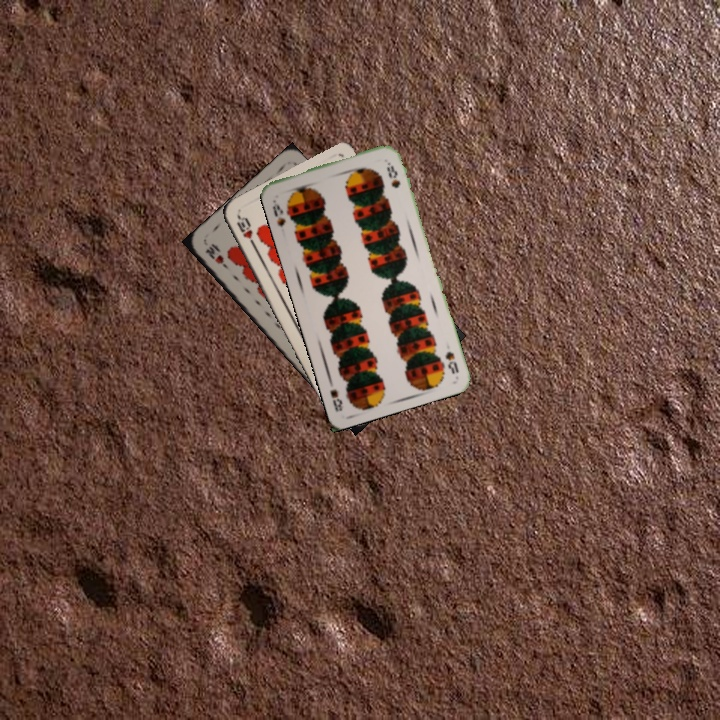H10: (232, 211, 258, 249), (201, 240, 231, 271)
S8: (268, 195, 288, 230), (441, 347, 461, 377)
